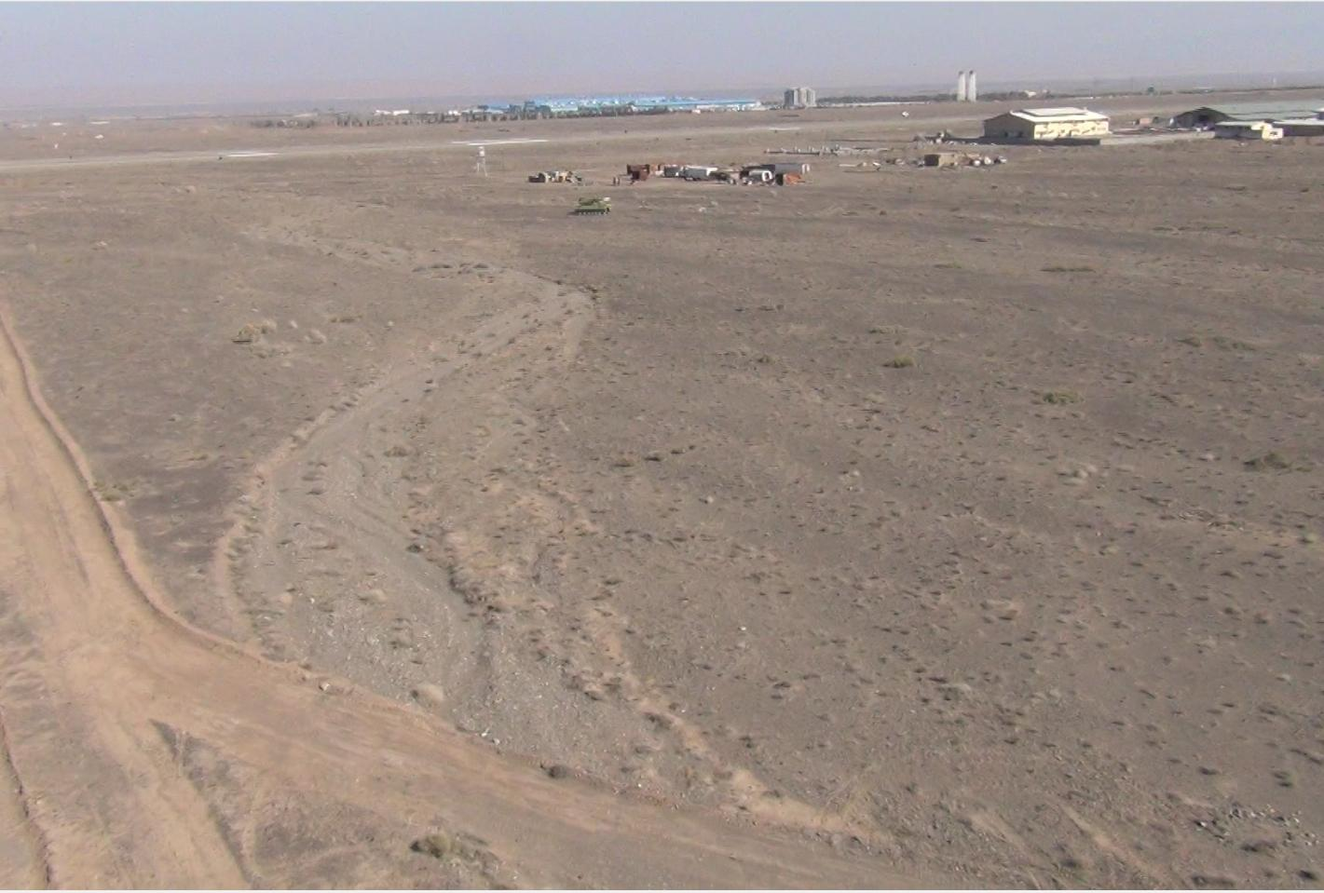armored_car: (571, 194, 614, 216)
